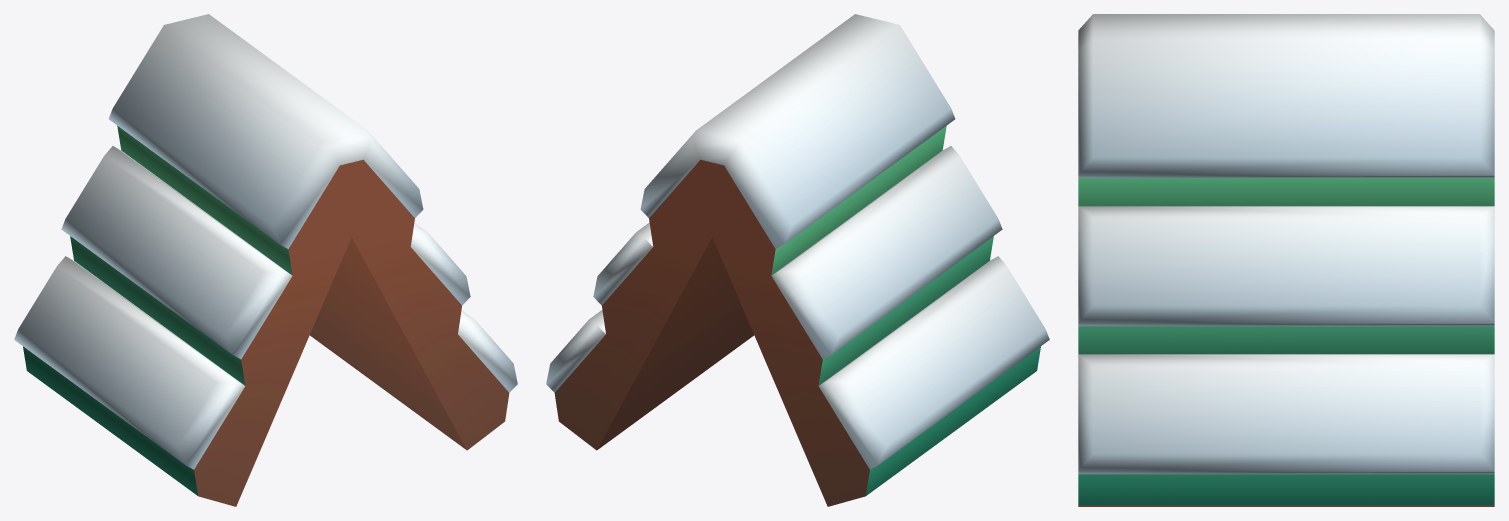
File: cabin-roof-snow-point.glb
3 views of the same model, side by side, from view 1: azimuth 30°, elevation 25°; view 2: azimuth 150°, elevation 25°; view 3: azimuth 270°, elevation 25° (orthographic). The views are drawn at different scales.
Visible parts, largest first — view 1: cabin-roof-snow-point; view 2: cabin-roof-snow-point; view 3: cabin-roof-snow-point.
Part boxes in pixels (x1,y1,x2,y2): cabin-roof-snow-point: (14, 14, 517, 506); cabin-roof-snow-point: (546, 14, 1049, 506); cabin-roof-snow-point: (1078, 14, 1494, 506).
Size of the model in its own units: 1.59 by 1.52 by 1.4.
1 material, 1 textured.
